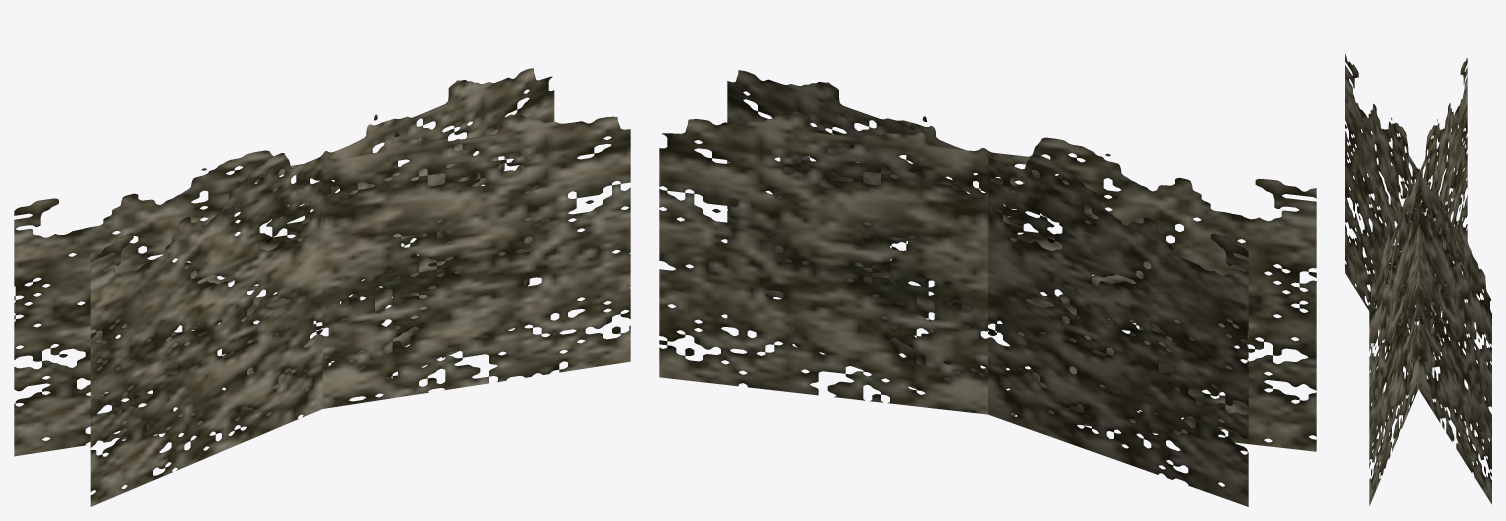
The model's file is bush_long_overgrown_dead.fbx.
3 views of the same model, side by side, from view 1: azimuth 30°, elevation 25°; view 2: azimuth 150°, elevation 25°; view 3: azimuth 270°, elevation 25° (orthographic). The views are drawn at different scales.
Visible parts, largest first — view 1: bush_long_overgrown_dead; view 2: bush_long_overgrown_dead; view 3: bush_long_overgrown_dead.
Part boxes in pixels (x1,y1,x2,y2): bush_long_overgrown_dead: (14, 68, 630, 506); bush_long_overgrown_dead: (659, 70, 1316, 506); bush_long_overgrown_dead: (1345, 53, 1491, 505).
Size of the model in its own units: 209 by 106 by 54.93.
Materials: 1 (1 with a texture image).
